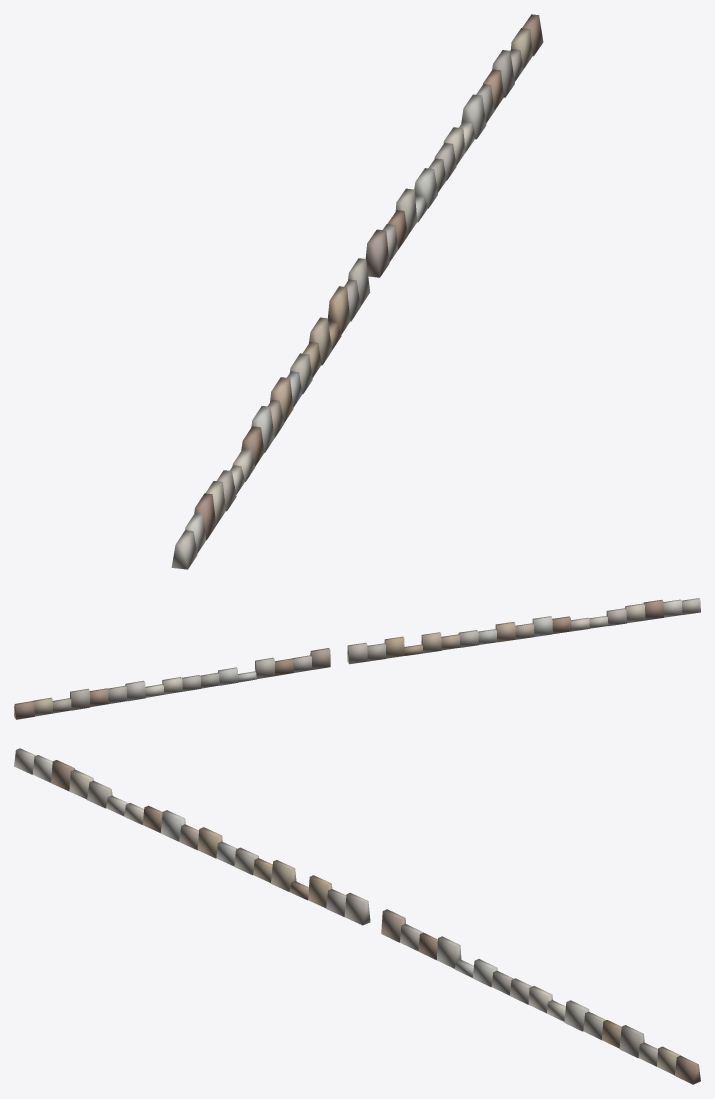
File: farm_-9_4_collision.glb
The picture shows the model from 3 angles, top to bottom: view 1: azimuth 30°, elevation 25°; view 2: azimuth 150°, elevation 25°; view 3: azimuth 270°, elevation 25°; orthographic projection. The views are drawn at different scales.
Parts seen in each view (by area): view 1: geometry_0; view 2: geometry_0; view 3: geometry_0.
Boxes of the visible parts, <box> form: geometry_0: <box>171,14,543,569</box>; geometry_0: <box>14,598,700,719</box>; geometry_0: <box>14,748,700,1084</box>.
Size of the model in its own units: 41.25 by 3.76 by 41.97.
